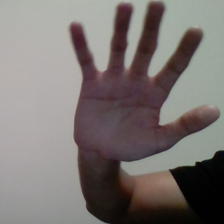left: (66, 3, 224, 167)
